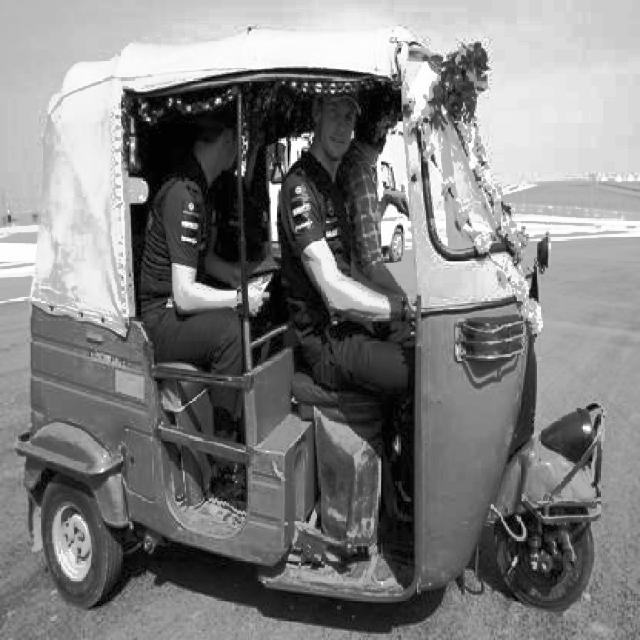Auto-Rickshaw: (11, 31, 606, 613)
